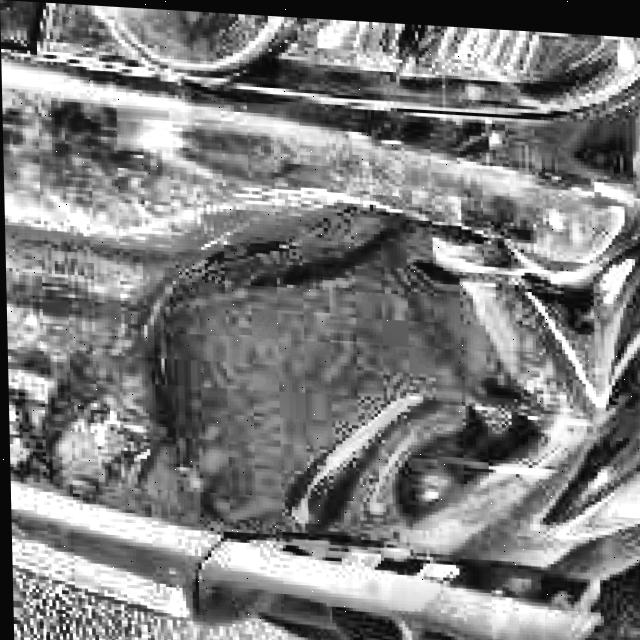bumper_dent: (142, 198, 599, 558)
